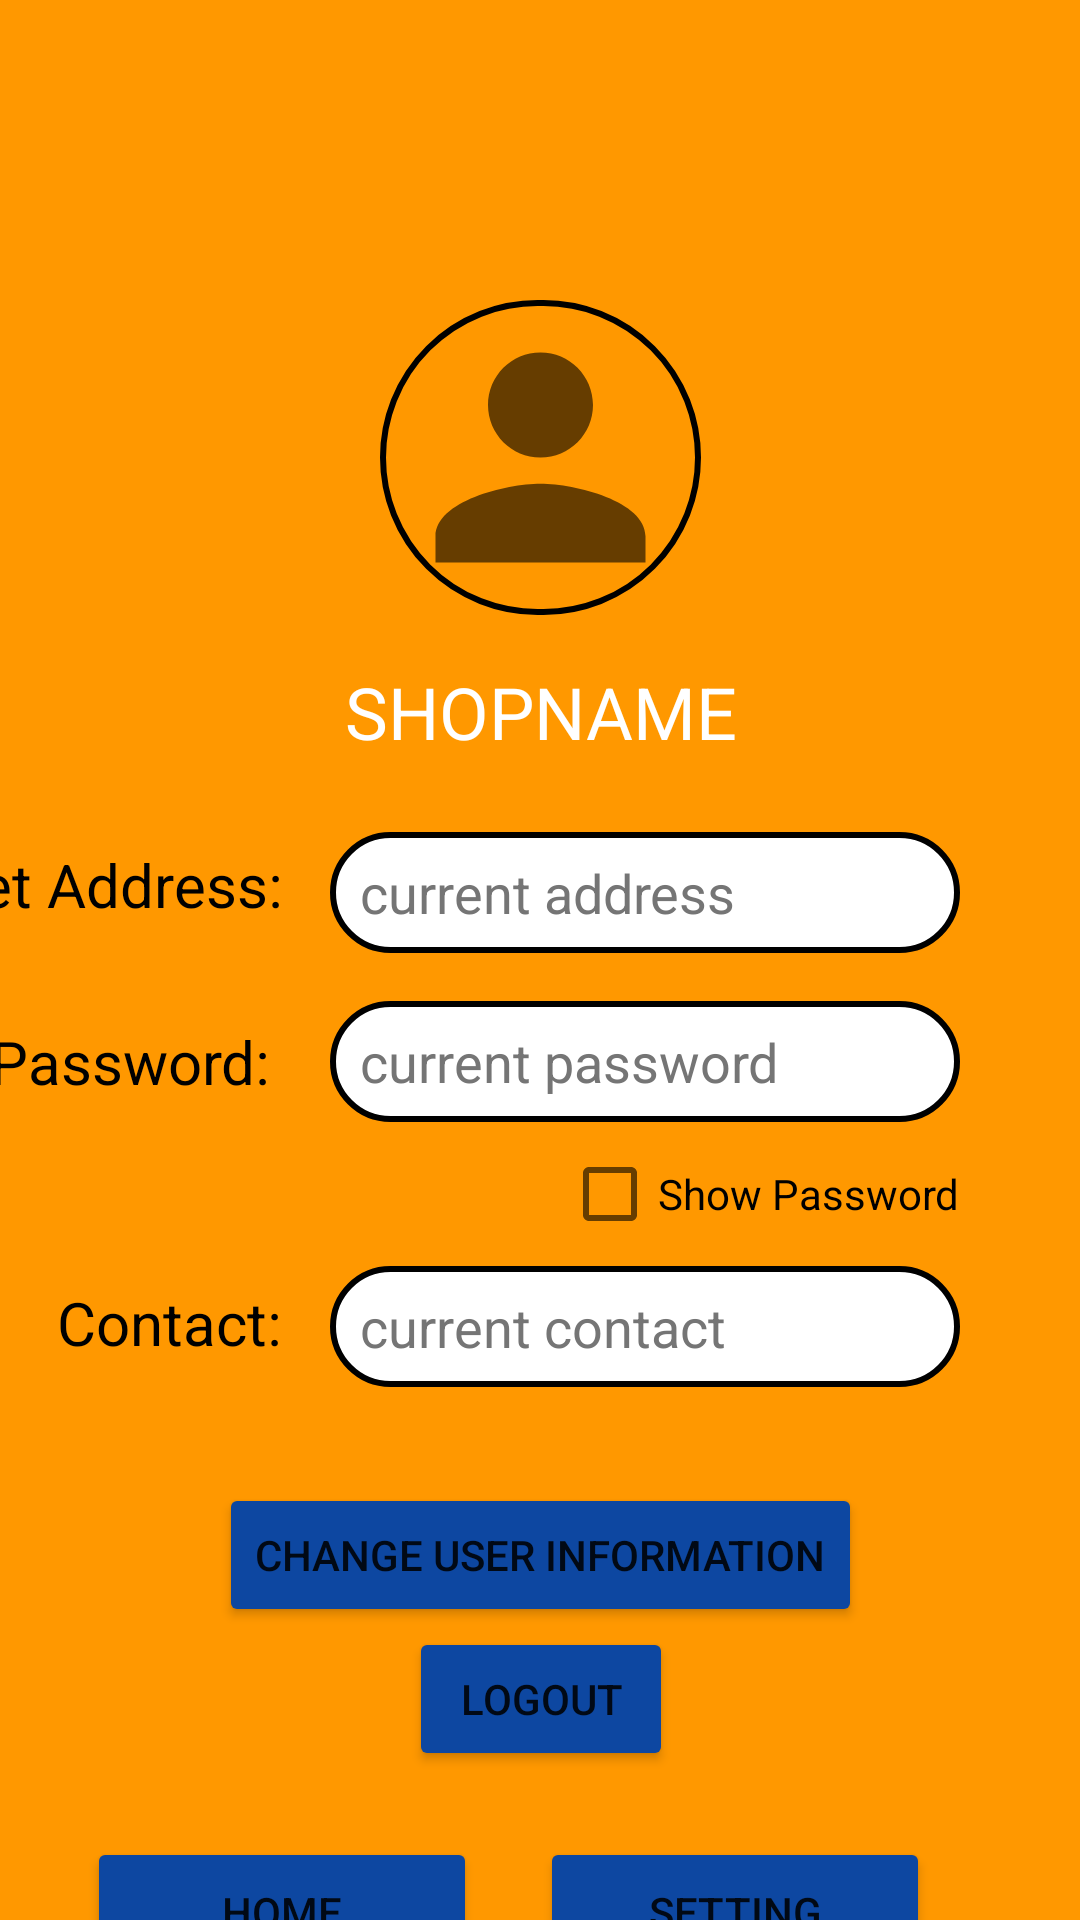

Screen size 1080px×1920px. Icon name, then its box in pixels as (x1, y1, x2, y2):
person: (380, 300, 701, 615)
